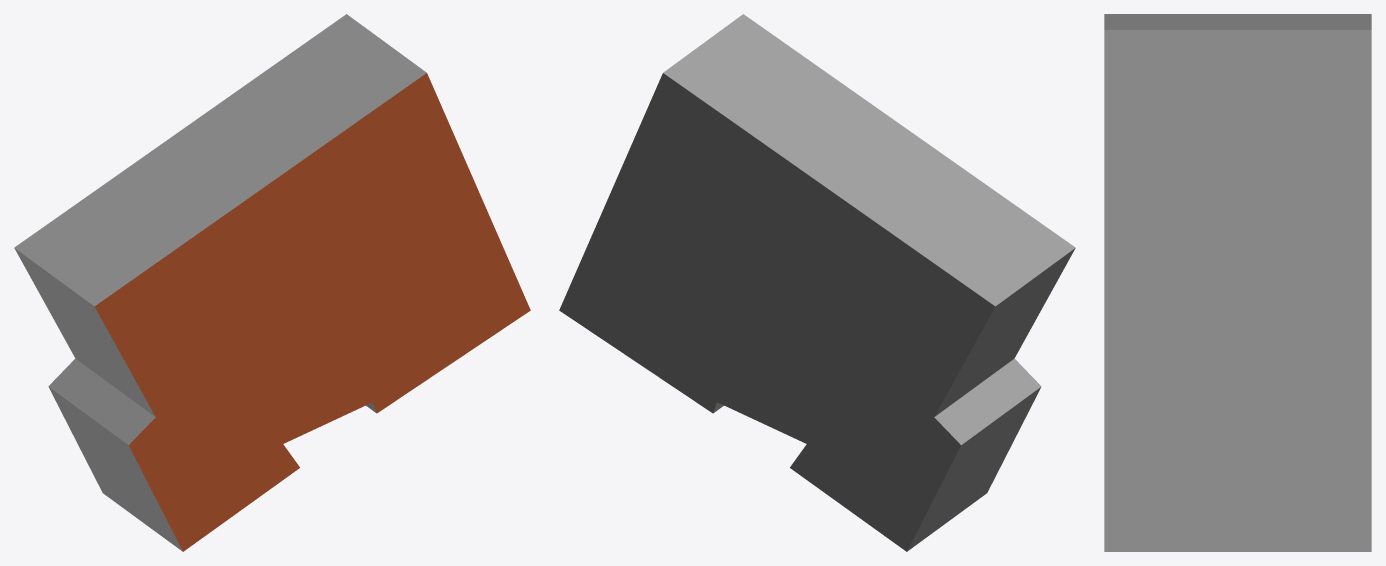
File: construction_3157_assumed_A_Casa_h6m.obj
3 views of the same model, side by side, from view 1: azimuth 30°, elevation 25°; view 2: azimuth 150°, elevation 25°; view 3: azimuth 270°, elevation 25° (orthographic). The views are drawn at different scales.
Visible parts, largest first — view 1: construction_3157_assumed_A_Casa; view 2: construction_3157_assumed_A_Casa; view 3: construction_3157_assumed_A_Casa.
Part boxes in pixels (x1,y1,x2,y2): construction_3157_assumed_A_Casa: [14, 14, 530, 551]; construction_3157_assumed_A_Casa: [559, 14, 1075, 551]; construction_3157_assumed_A_Casa: [1104, 14, 1371, 551].
Size of the model in its own units: 18.8 by 17.28 by 6.
